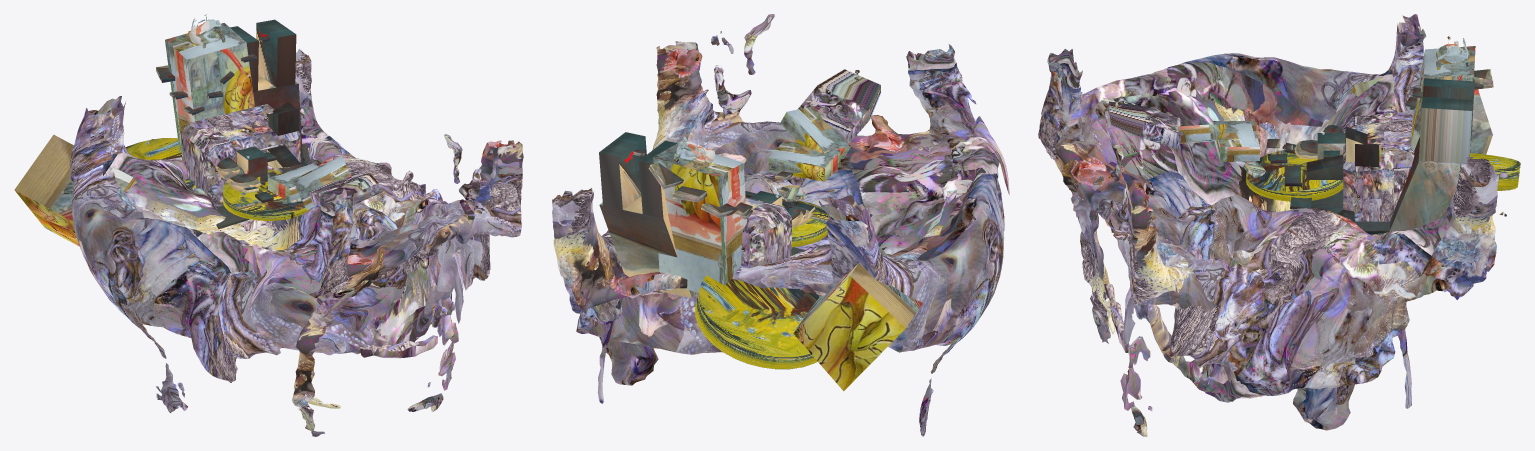
Rendered from level_1.gltf.
3 views of the same model, side by side, from view 1: azimuth 30°, elevation 25°; view 2: azimuth 150°, elevation 25°; view 3: azimuth 270°, elevation 25° (orthographic). The views are drawn at different scales.
Visible parts, largest first — view 1: Model, Cube.002, Cube.001, Cube.019, Cube.014, Cylinder, Cube.039, Cube.040, Cube.011, Cylinder.001, Cube.038, Cube.016 (+4 smaller); view 2: Model, Cube.019, Cube.002, Cylinder.001, Cube.011, Cube.040, Cube.001, Cube.014, Cube.038, Cube.039, Cube.013, Cylinder (+2 smaller); view 3: Model, Cube.001, Cube.011, Cube.014, Cylinder, Cube.040, Cube.002, Cube.038, Cube.019, Cube.013, Cylinder.001, Cube.012 (+6 smaller).
Boxes of the visible parts, x1,y1,x2,y2 form: Model: (69, 48, 523, 436); Cube.002: (165, 23, 254, 153); Cube.001: (182, 104, 300, 206); Cube.019: (14, 134, 137, 246); Cube.014: (256, 19, 296, 87); Cylinder: (223, 170, 310, 220); Cube.039: (292, 156, 351, 209); Cube.040: (309, 171, 381, 206); Cube.011: (253, 75, 302, 160); Cylinder.001: (125, 138, 195, 188); Cube.038: (268, 163, 318, 201); Cube.016: (235, 146, 267, 177); Model: (552, 14, 1009, 436); Cube.019: (793, 246, 922, 391); Cube.002: (653, 143, 746, 292); Cylinder.001: (695, 275, 820, 369); Cube.011: (599, 196, 696, 297); Cube.040: (797, 69, 880, 143); Cube.001: (741, 197, 791, 267); Cube.014: (599, 132, 646, 209); Cube.038: (768, 140, 840, 181); Cube.039: (780, 106, 851, 159); Cube.013: (638, 140, 677, 218); Cylinder: (782, 198, 828, 247); Model: (1038, 14, 1507, 436); Cube.001: (1343, 111, 1414, 236); Cube.011: (1389, 137, 1470, 231); Cube.014: (1418, 97, 1473, 163); Cylinder: (1245, 150, 1343, 201); Cube.040: (1106, 101, 1182, 148); Cube.002: (1411, 46, 1475, 149); Cube.038: (1213, 121, 1259, 162); Cube.019: (1350, 77, 1492, 154); Cube.013: (1423, 74, 1474, 140); Cylinder.001: (1469, 153, 1520, 190); Cube.012: (1310, 189, 1389, 233).
Bounding box in the file's own units: 309 × 253 × 317.
Materials: 4 (4 with a texture image).
